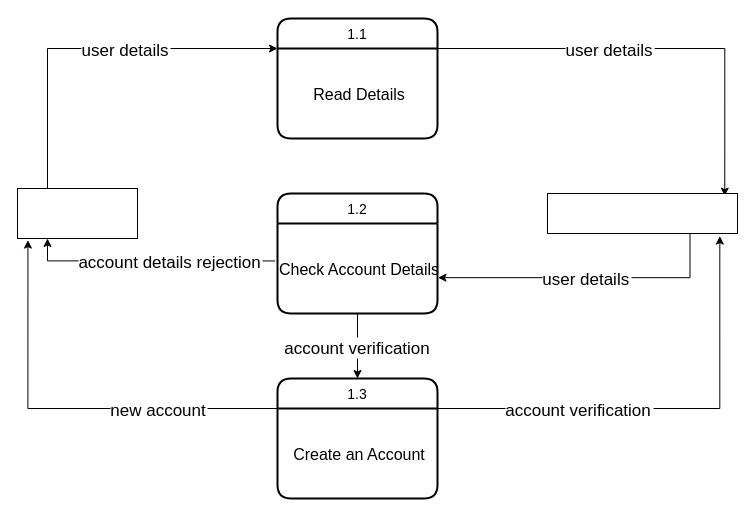
Image size: 755x516. Some labels were removed from this diagram. The shapes that lost their labels are listed below. From the top down, each one's centre as x and y in pixels, then its label:
At [77,213]: "User".
At [642,213]: "D1 User Accounts".
